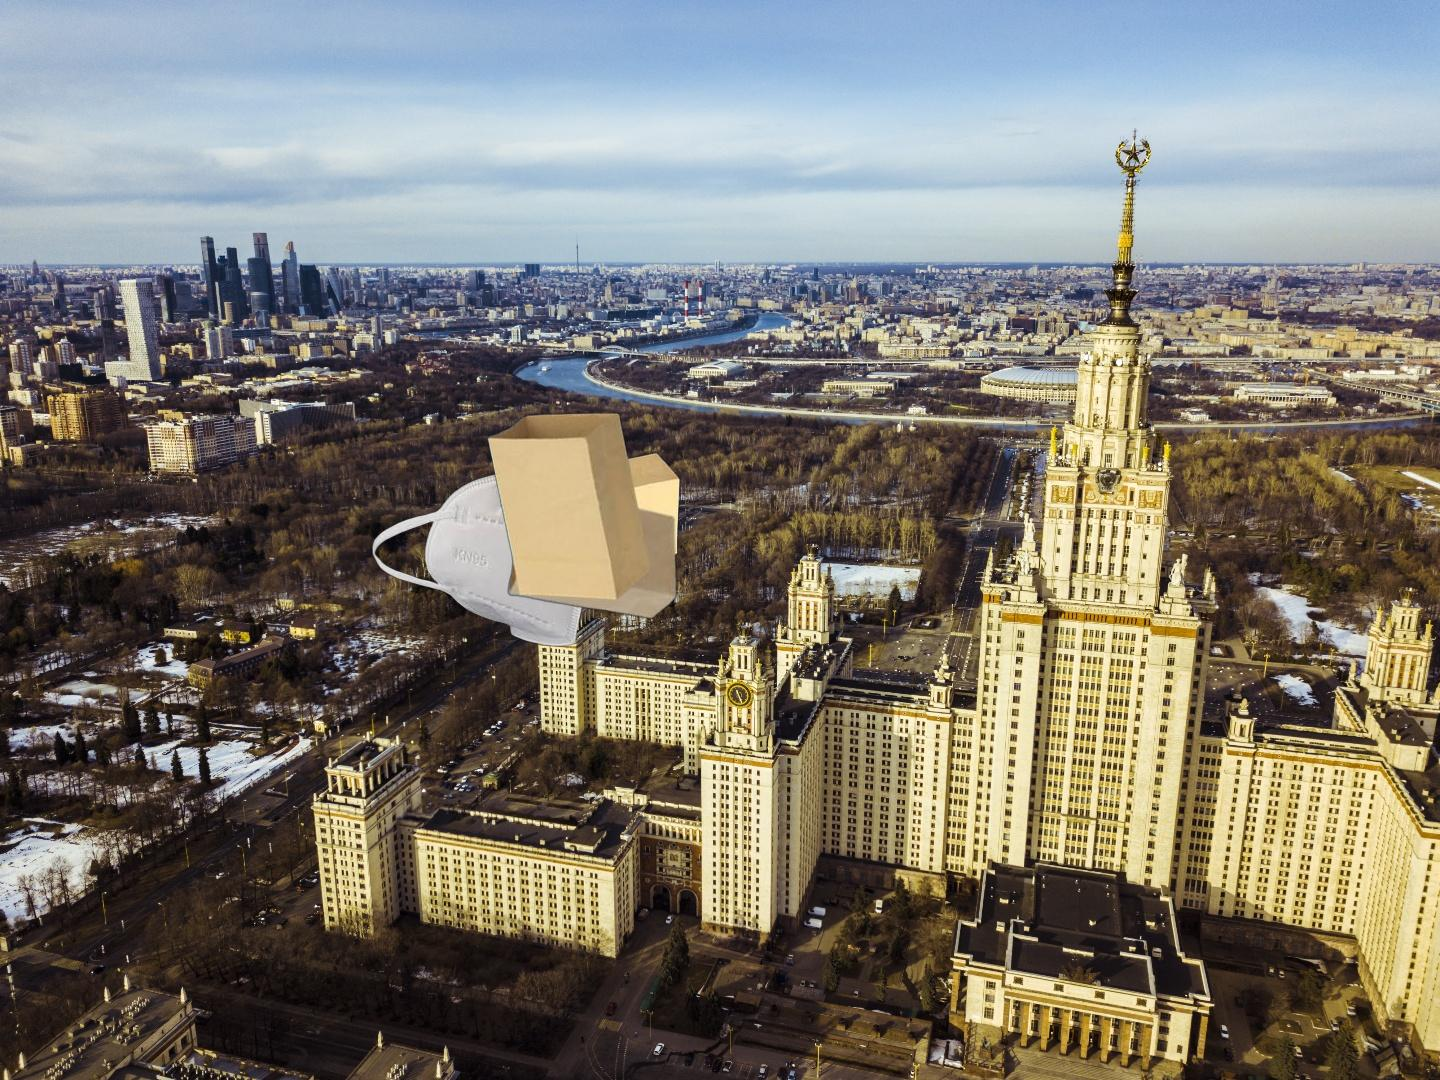paper-bag: (486, 410, 681, 622)
trash: (369, 459, 607, 647)
